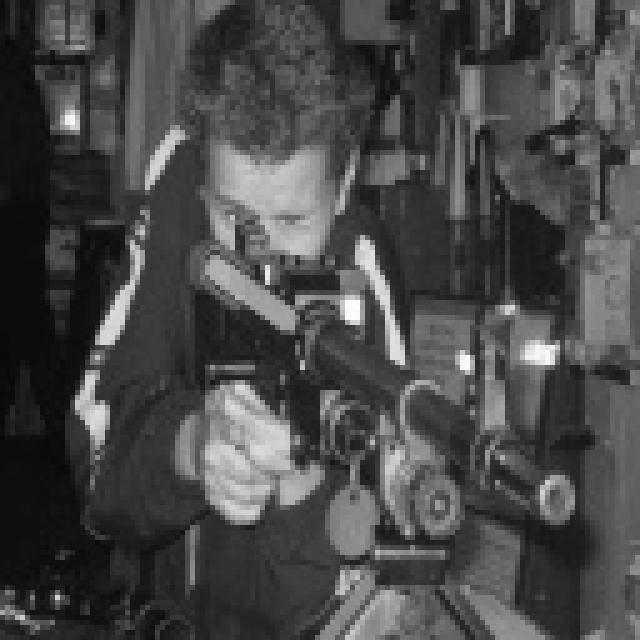Rifle: (155, 190, 640, 605)
